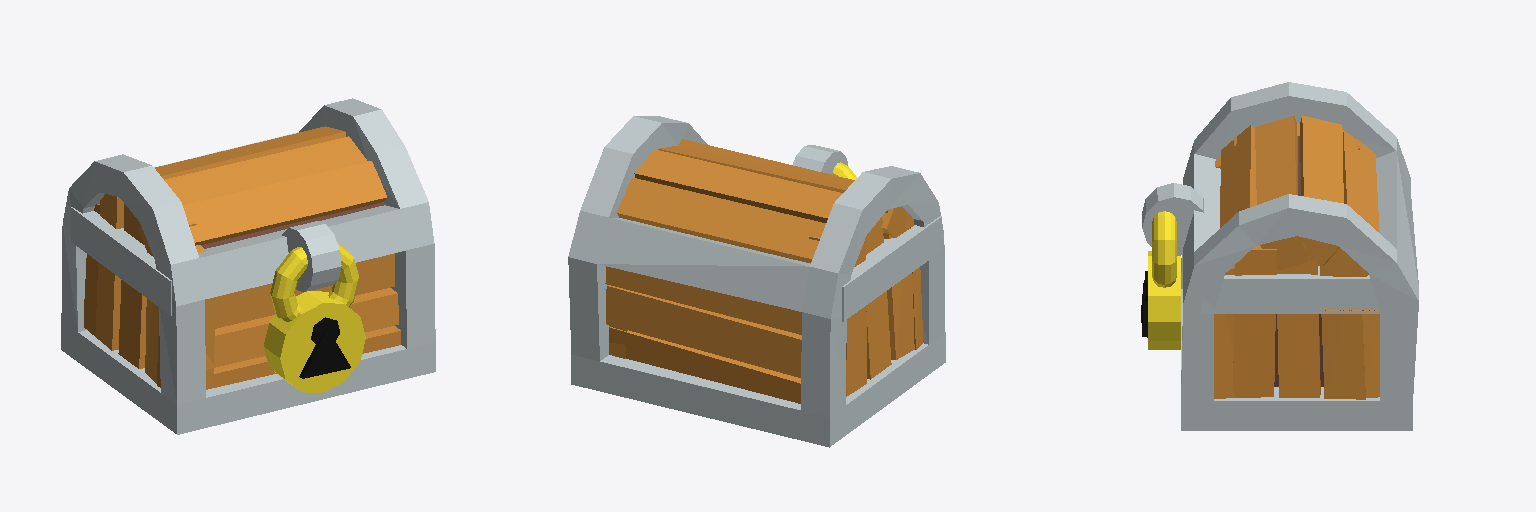
The picture shows the model from 3 angles: view 1: azimuth 30°, elevation 25°; view 2: azimuth 150°, elevation 25°; view 3: azimuth 270°, elevation 25°; orthographic projection.
Parts seen in each view (by area): view 1: group[number redacted], group[number redacted], group[number redacted], group[number redacted], group[number redacted], group[number redacted], group[number redacted], group[number redacted], group[number redacted], group[number redacted], group[number redacted], group[number redacted] (+5 smaller); view 2: group[number redacted], group[number redacted], group[number redacted], group[number redacted], group[number redacted], group[number redacted], group[number redacted], group[number redacted], group[number redacted], group[number redacted], group[number redacted], group[number redacted] (+2 smaller); view 3: group[number redacted], group[number redacted], group[number redacted], group[number redacted], group[number redacted], group[number redacted], group[number redacted], group[number redacted], group[number redacted], group[number redacted], group[number redacted], group[number redacted] (+2 smaller).
Part boxes in pixels (x1,y1,x2,y2): group[number redacted]: (61,98,435,434); group[number redacted]: (138,161,386,255); group[number redacted]: (263,291,365,392); group[number redacted]: (164,136,367,204); group[number redacted]: (71,207,171,315); group[number redacted]: (206,288,398,369); group[number redacted]: (215,253,394,328); group[number redacted]: (270,242,358,322); group[number redacted]: (124,126,345,206); group[number redacted]: (282,221,341,291); group[number redacted]: (96,194,123,350); group[number redacted]: (118,205,146,368); group[number redacted]: (568,116,945,447); group[number redacted]: (617,177,825,262); group[number redacted]: (606,285,801,377); group[number redacted]: (634,149,842,222); group[number redacted]: (609,326,800,403); group[number redacted]: (842,216,941,321); group[number redacted]: (605,266,801,334); group[number redacted]: (866,217,891,379); group[number redacted]: (883,210,914,359); group[number redacted]: (658,146,883,232); group[number redacted]: (809,236,866,395); group[number redacted]: (679,139,911,237); group[number redacted]: (1181,82,1418,430); group[number redacted]: (1201,266,1379,313); group[number redacted]: (1233,245,1276,397); group[number redacted]: (1255,116,1309,270); group[number redacted]: (1319,241,1365,399); group[number redacted]: (1277,259,1320,397); group[number redacted]: (1300,115,1343,264); group[number redacted]: (1323,130,1379,276); group[number redacted]: (1220,125,1256,227); group[number redacted]: (1148,251,1180,349); group[number redacted]: (1142,183,1203,255); group[number redacted]: (1152,211,1176,287).
Size of the model in its own units: 1.48 by 1.21 by 1.36.